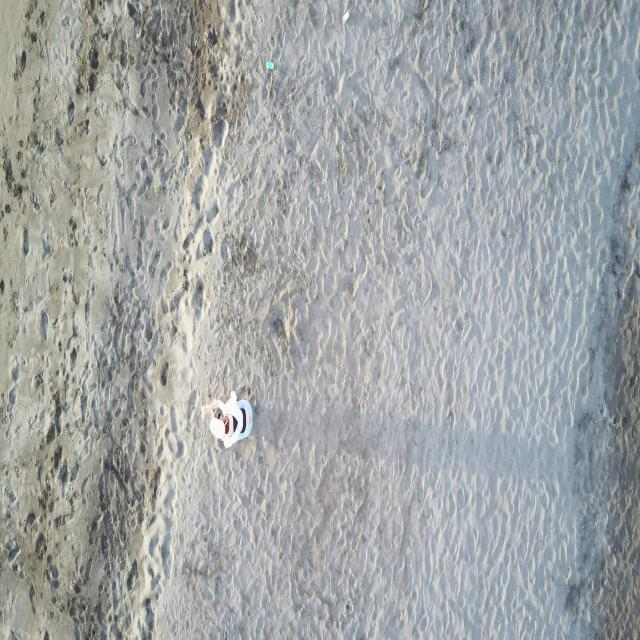Garbage: (201, 392, 252, 447), (266, 60, 273, 70), (343, 9, 348, 22)
